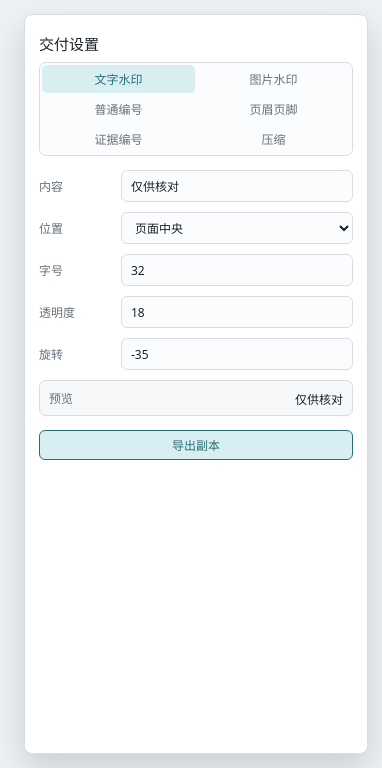
it: ExportDeliveryPanel › 文字水印导出为新 PDF 副本
This screenshot has width=382, height=768.
Replace the text in the field labelled "内容" with "CONFIDENTIAL" at [237, 186], box x1=121 y1=170 x2=353 y2=202
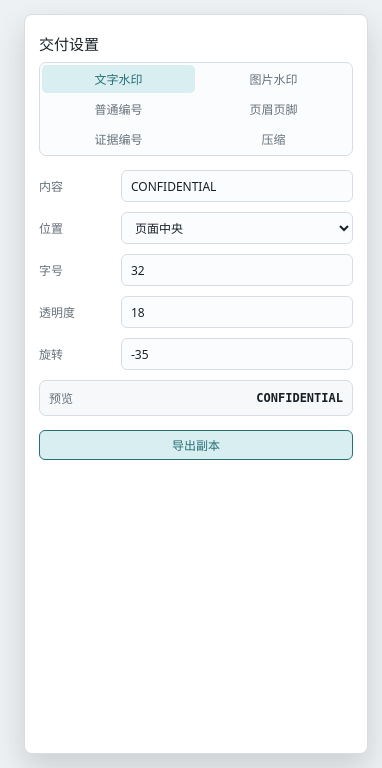
Replace the text in the number field labelled "透明度" with "20" at [237, 312], box x1=121 y1=296 x2=353 y2=328
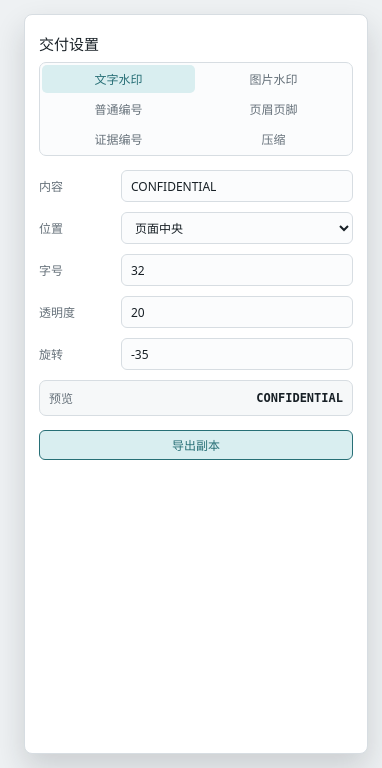
Click the button "导出副本" at [196, 445], box x1=39 y1=430 x2=353 y2=460
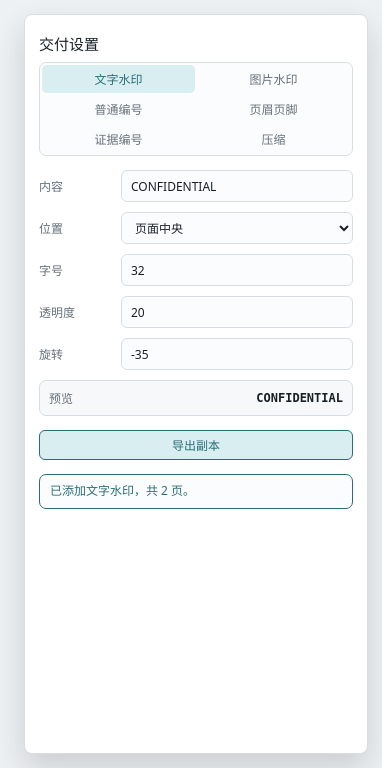
Expected: the message reads "已添加文字水印，共 2 页。", x1=50 y1=482 x2=195 y2=499
